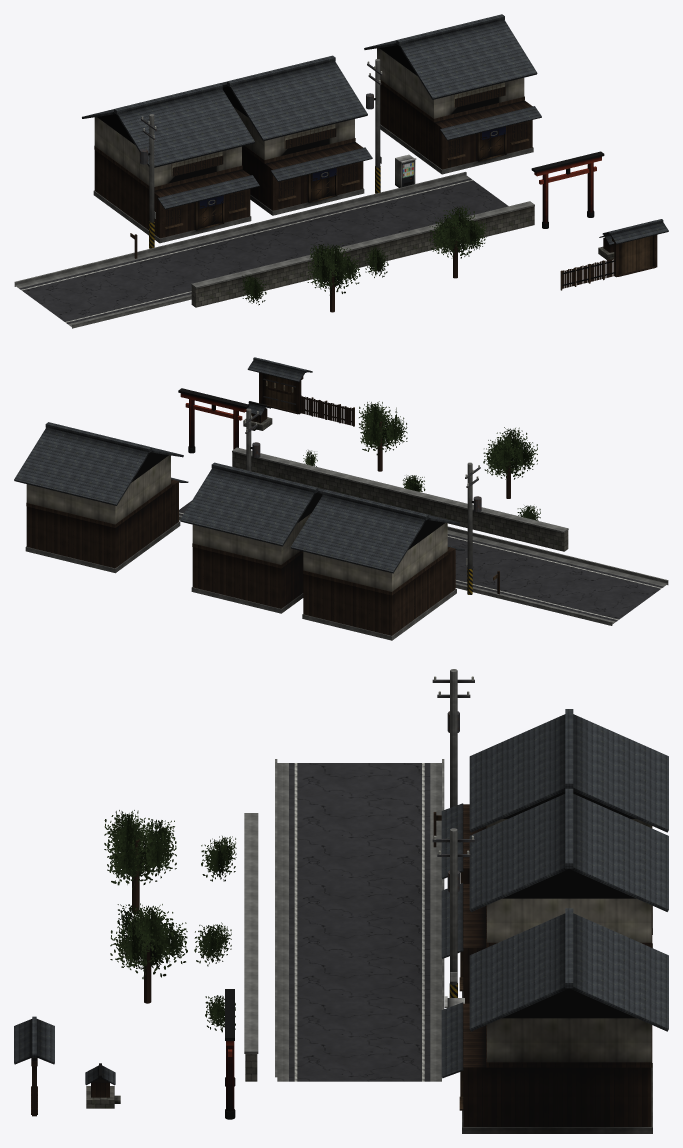
File: street_west.glb
3 views of the same model, one above another, from view 1: azimuth 30°, elevation 25°; view 2: azimuth 150°, elevation 25°; view 3: azimuth 270°, elevation 25° (orthographic). The views are drawn at different scales.
Parts seen in each view (by area): view 1: machiya.014, machiya.012, machiya.013, road.000, road.001, road.002, road.003, shrine_gate.036, tree.053, tree.054, torii.034, stone_wall.026 (+10 smaller); view 2: machiya.014, machiya.012, machiya.013, road.000, road.001, shrine_gate.036, tree.054, tree.053, torii.034, stone_wall.026, stone_wall.027, stone_wall.028 (+7 smaller); view 3: machiya.014, machiya.013, machiya.012, road.001, road.002, road.000, road.003, tree.054, tree.053, shrine_gate.036, utility_pole.064, utility_pole.063 (+5 smaller).
Boxes of the visible parts, bbox=[...] form: machiya.014: bbox=[364, 14, 541, 174]; machiya.012: bbox=[82, 83, 259, 243]; machiya.013: bbox=[220, 55, 372, 215]; road.000: bbox=[14, 254, 184, 328]; road.001: bbox=[127, 227, 282, 300]; road.002: bbox=[240, 199, 395, 261]; road.003: bbox=[353, 172, 508, 233]; shrine_gate.036: bbox=[602, 219, 668, 277]; tree.053: bbox=[429, 205, 485, 278]; tree.054: bbox=[307, 243, 360, 312]; torii.034: bbox=[531, 151, 604, 228]; stone_wall.026: bbox=[191, 270, 252, 307]; machiya.014: bbox=[14, 422, 188, 573]; machiya.012: bbox=[290, 489, 464, 640]; machiya.013: bbox=[180, 462, 324, 613]; road.000: bbox=[501, 553, 668, 625]; road.001: bbox=[447, 526, 557, 598]; shrine_gate.036: bbox=[247, 357, 312, 414]; tree.054: bbox=[483, 427, 537, 498]; tree.053: bbox=[359, 401, 407, 471]; torii.034: bbox=[178, 388, 249, 453]; stone_wall.026: bbox=[508, 515, 568, 551]; stone_wall.027: bbox=[453, 501, 512, 538]; stone_wall.028: bbox=[398, 488, 457, 524]; machiya.014: bbox=[441, 908, 668, 1133]; machiya.013: bbox=[441, 788, 668, 1003]; machiya.012: bbox=[441, 709, 668, 934]; road.001: bbox=[275, 838, 444, 922]; road.002: bbox=[275, 918, 444, 1001]; road.000: bbox=[275, 759, 444, 842]; road.003: bbox=[275, 997, 444, 1081]; tree.054: bbox=[104, 810, 176, 913]; tree.053: bbox=[110, 903, 187, 1003]; shrine_gate.036: bbox=[14, 1016, 54, 1116]; utility_pole.064: bbox=[432, 828, 474, 997]; utility_pole.063: bbox=[432, 669, 474, 807].
Bounding box in the file's own units: 37.75 × 9.1 × 27.8.
24 materials, 24 textured.
